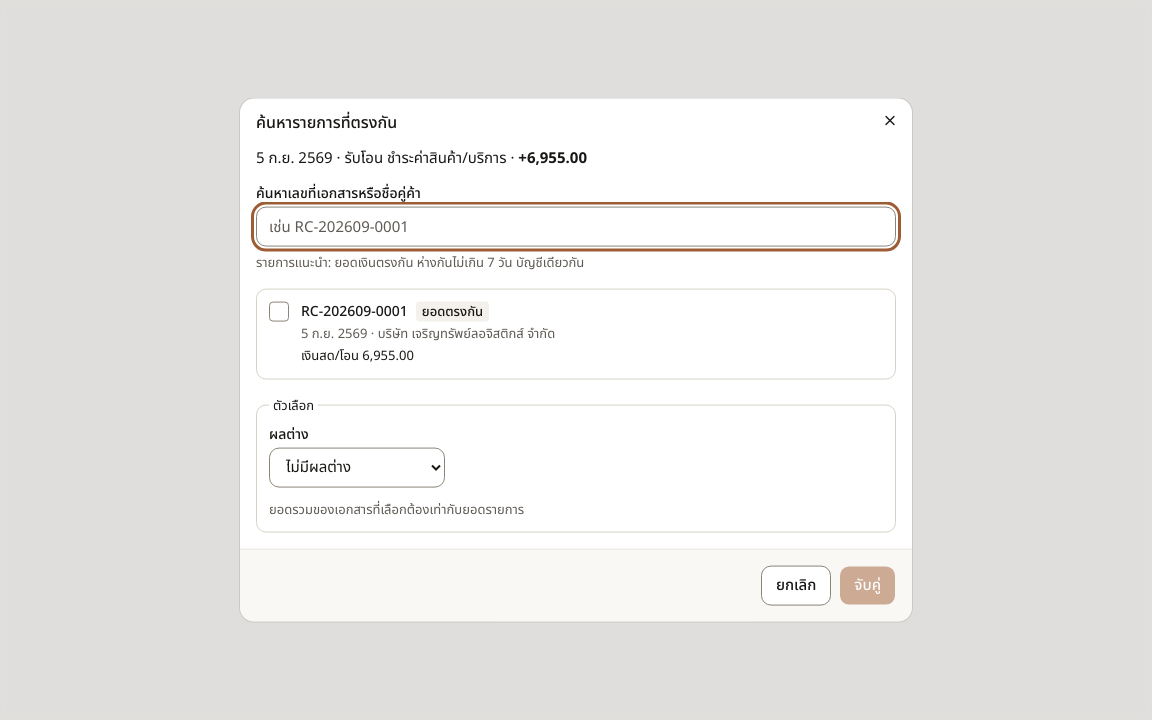
MatchPanel › a search widens to other receipts of the account; a wrong pick is refused with both sides of the sum and nothing is matched
Expected: the list named "เอกสารที่จับคู่ได้" is shown, [256, 289, 896, 379]
Type "RC-202609-0002" into the field labelled "ค้นหาเลขที่เอกสารหรือชื่อคู่ค้า".
click(576, 227); type("RC-202609-0002")  # box [256, 207, 896, 247]
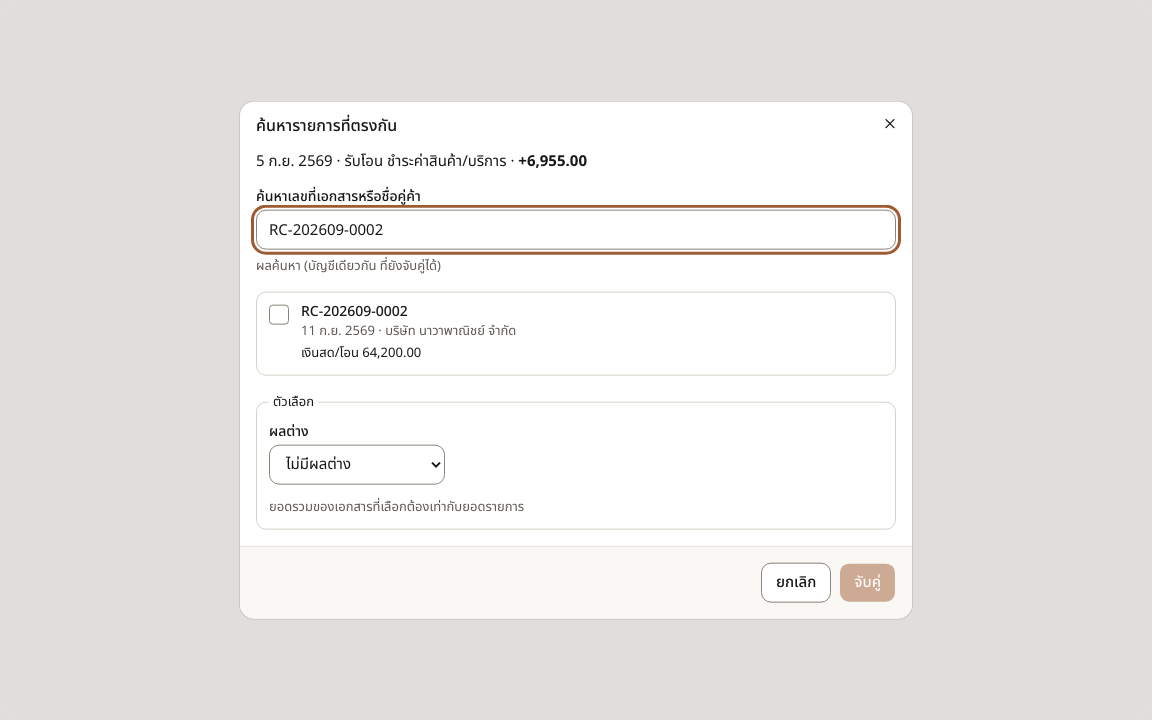
Click the checkbox named "RC-202609-0002".
click(279, 315)  # box [269, 305, 289, 325]
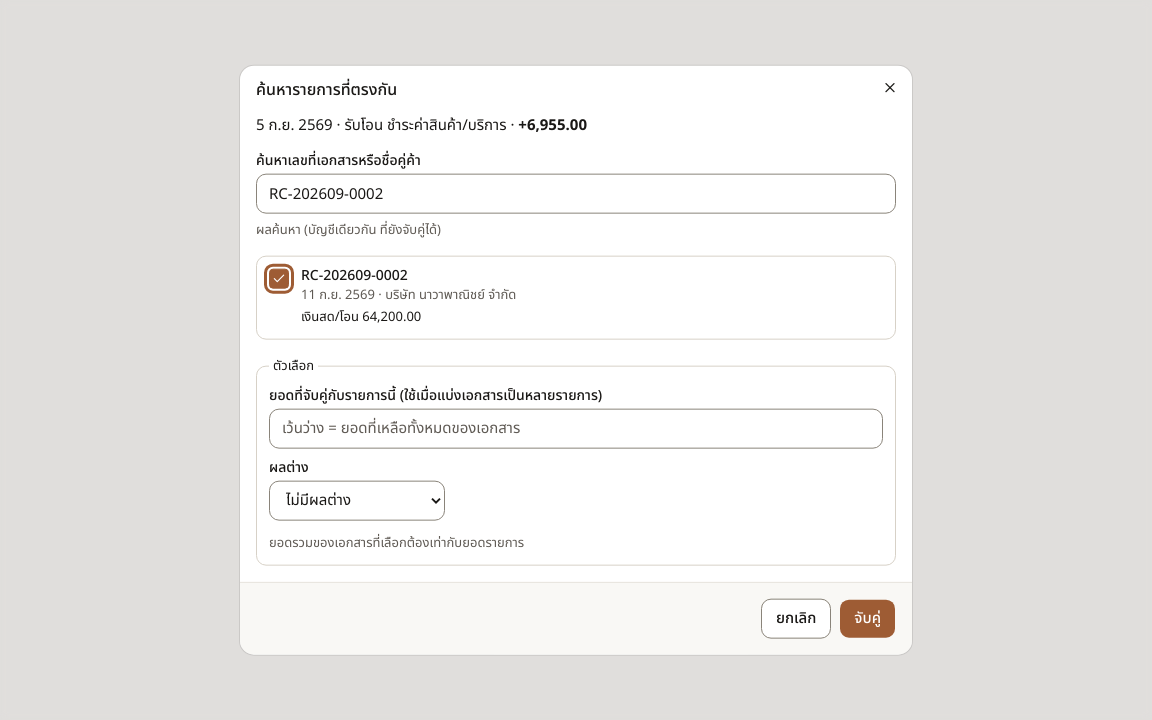
Click the button "จับคู่".
click(868, 618)  # box [839, 598, 896, 638]
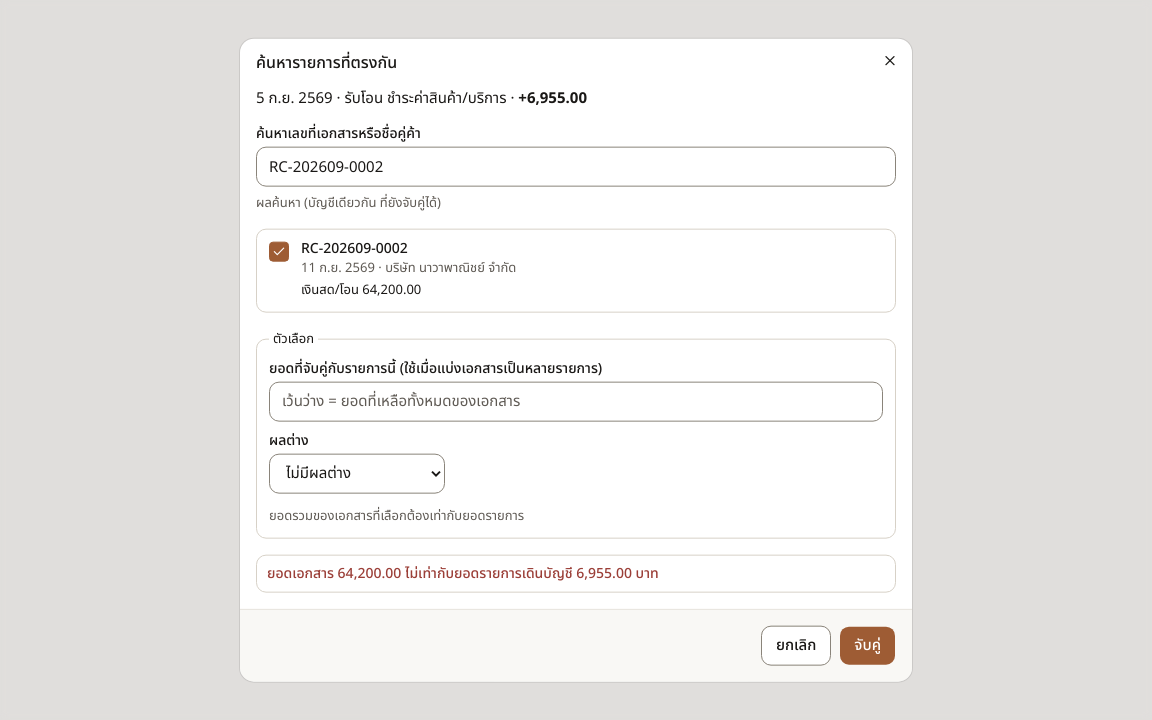
Expected: the message shows "64,200.00", [267, 562, 659, 583]
Expected: the message shows "6,955.00", [267, 562, 659, 583]
